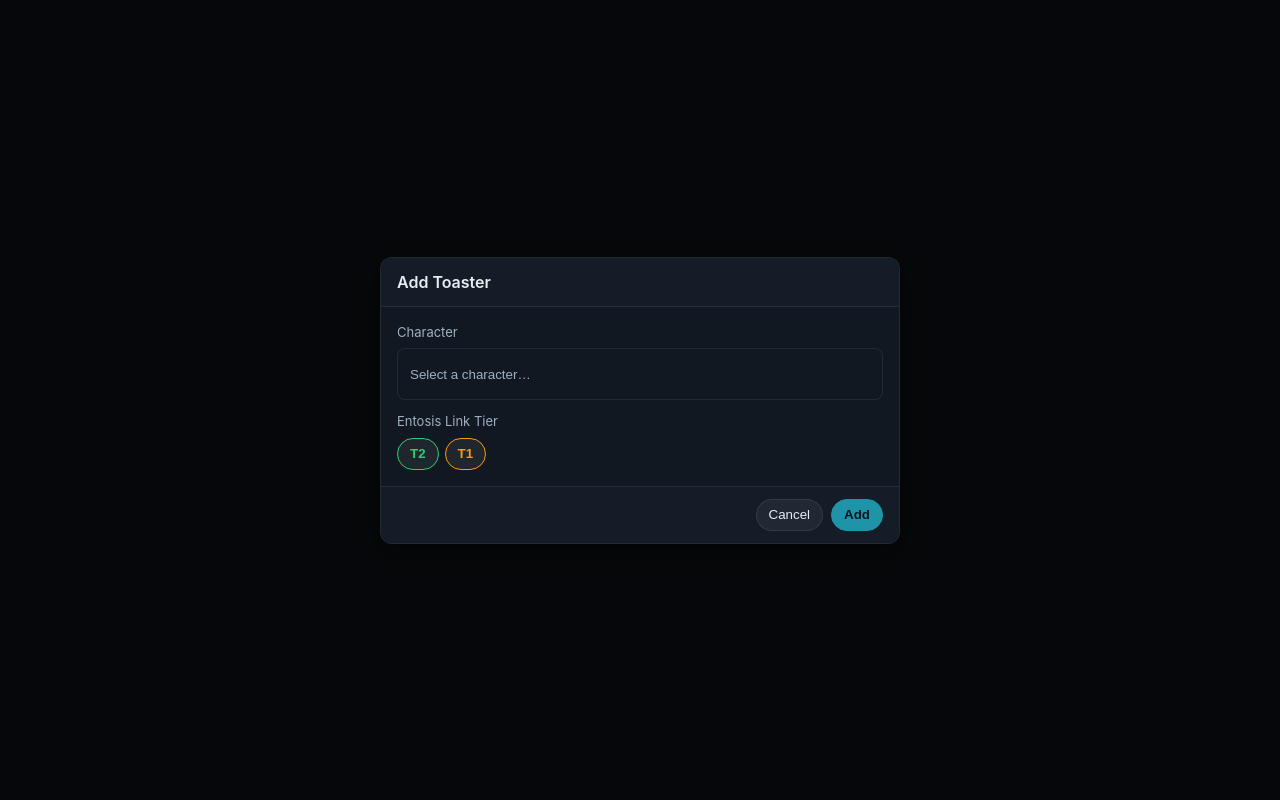
Test case: AddToasterModal › requires a character and tier before enabling Add
Expected: the button "Add" is disabled, [831,498,883,530]
Click the button "Select a character…": point(470, 374) [397,348,883,400]
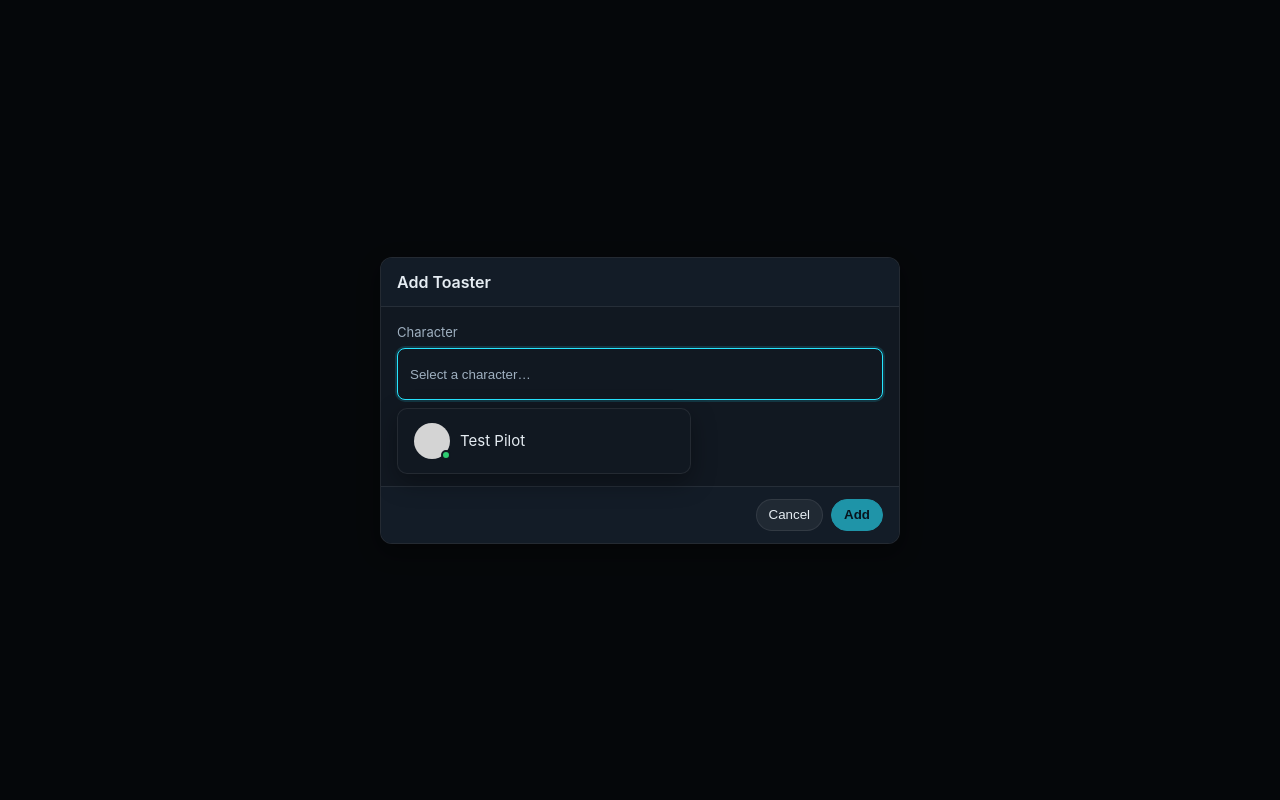
Click the option "Test Pilot": point(470, 442) [414,423,525,460]
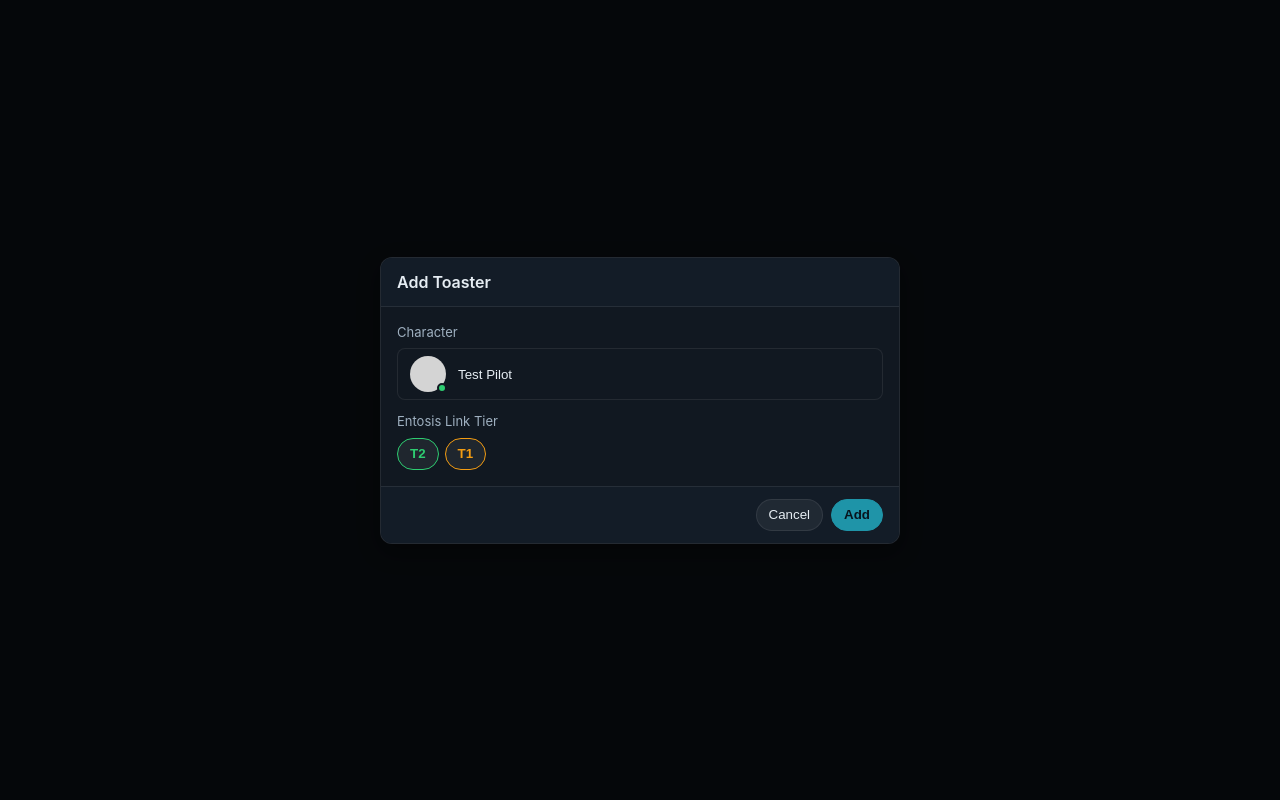
Expected: the button "Add" is disabled, [831,498,883,530]
Click the button "T2": point(418, 454) [397,438,439,470]
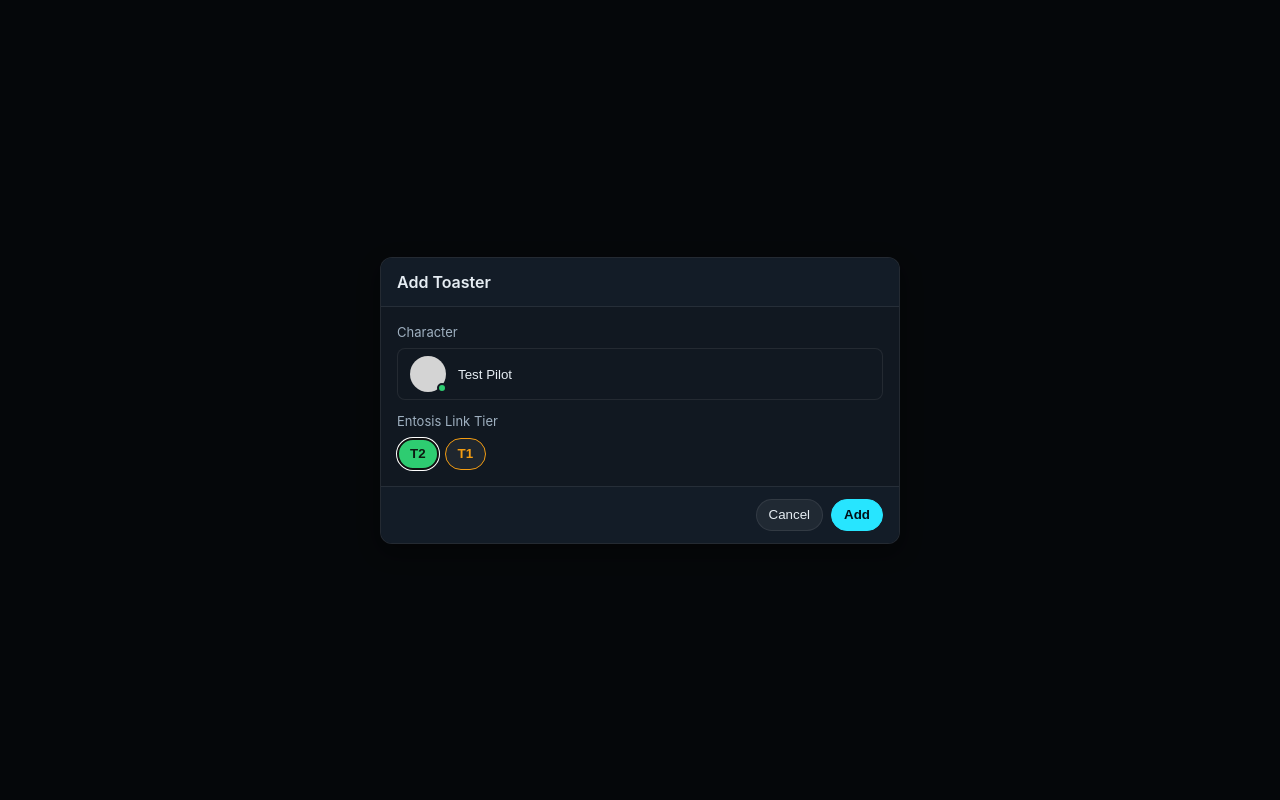
Expected: the button "Add" is enabled, [831,498,883,530]
